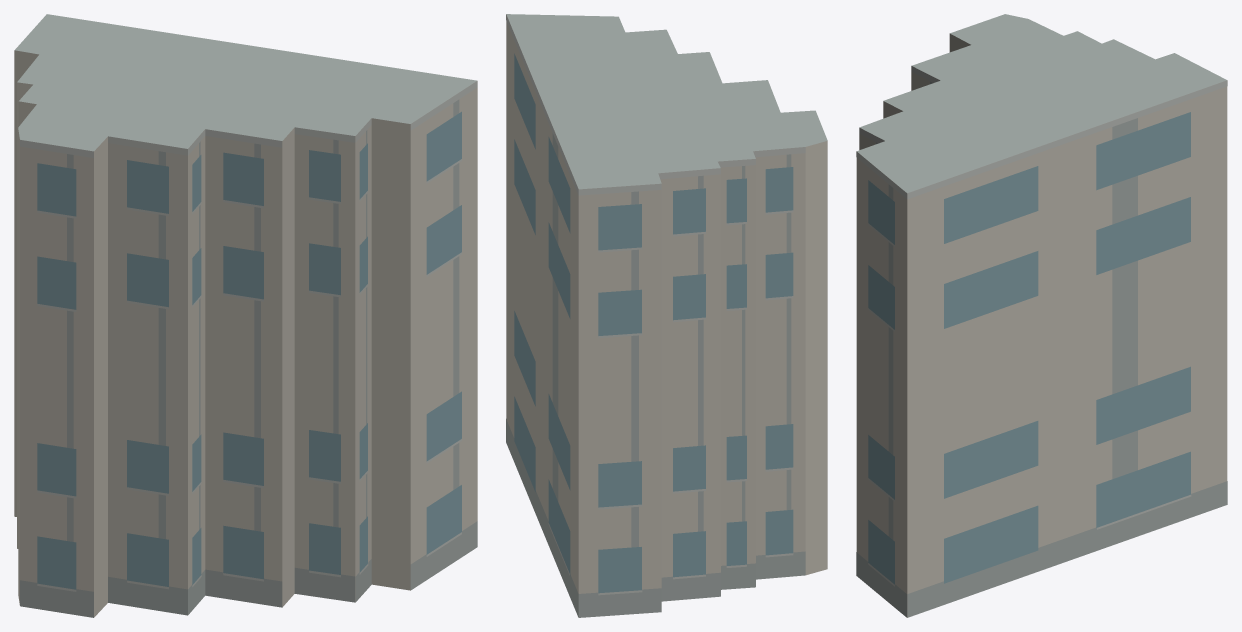
Rendered from survey-upis-32983925.glb.
The picture shows the model from 3 angles, left to right: view 1: azimuth 30°, elevation 25°; view 2: azimuth 150°, elevation 25°; view 3: azimuth 270°, elevation 25°; orthographic projection. The views are drawn at different scales.
Visible parts, largest first — view 1: survey-upis-32983925.tmp; view 2: survey-upis-32983925.tmp; view 3: survey-upis-32983925.tmp.
Part boxes in pixels (box(x1,y1,x2,y2)): survey-upis-32983925.tmp: box(14, 14, 477, 617); survey-upis-32983925.tmp: box(506, 14, 827, 617); survey-upis-32983925.tmp: box(856, 14, 1227, 617).
Bounding box in the file's own units: 15.23 × 16.81 × 13.31.
